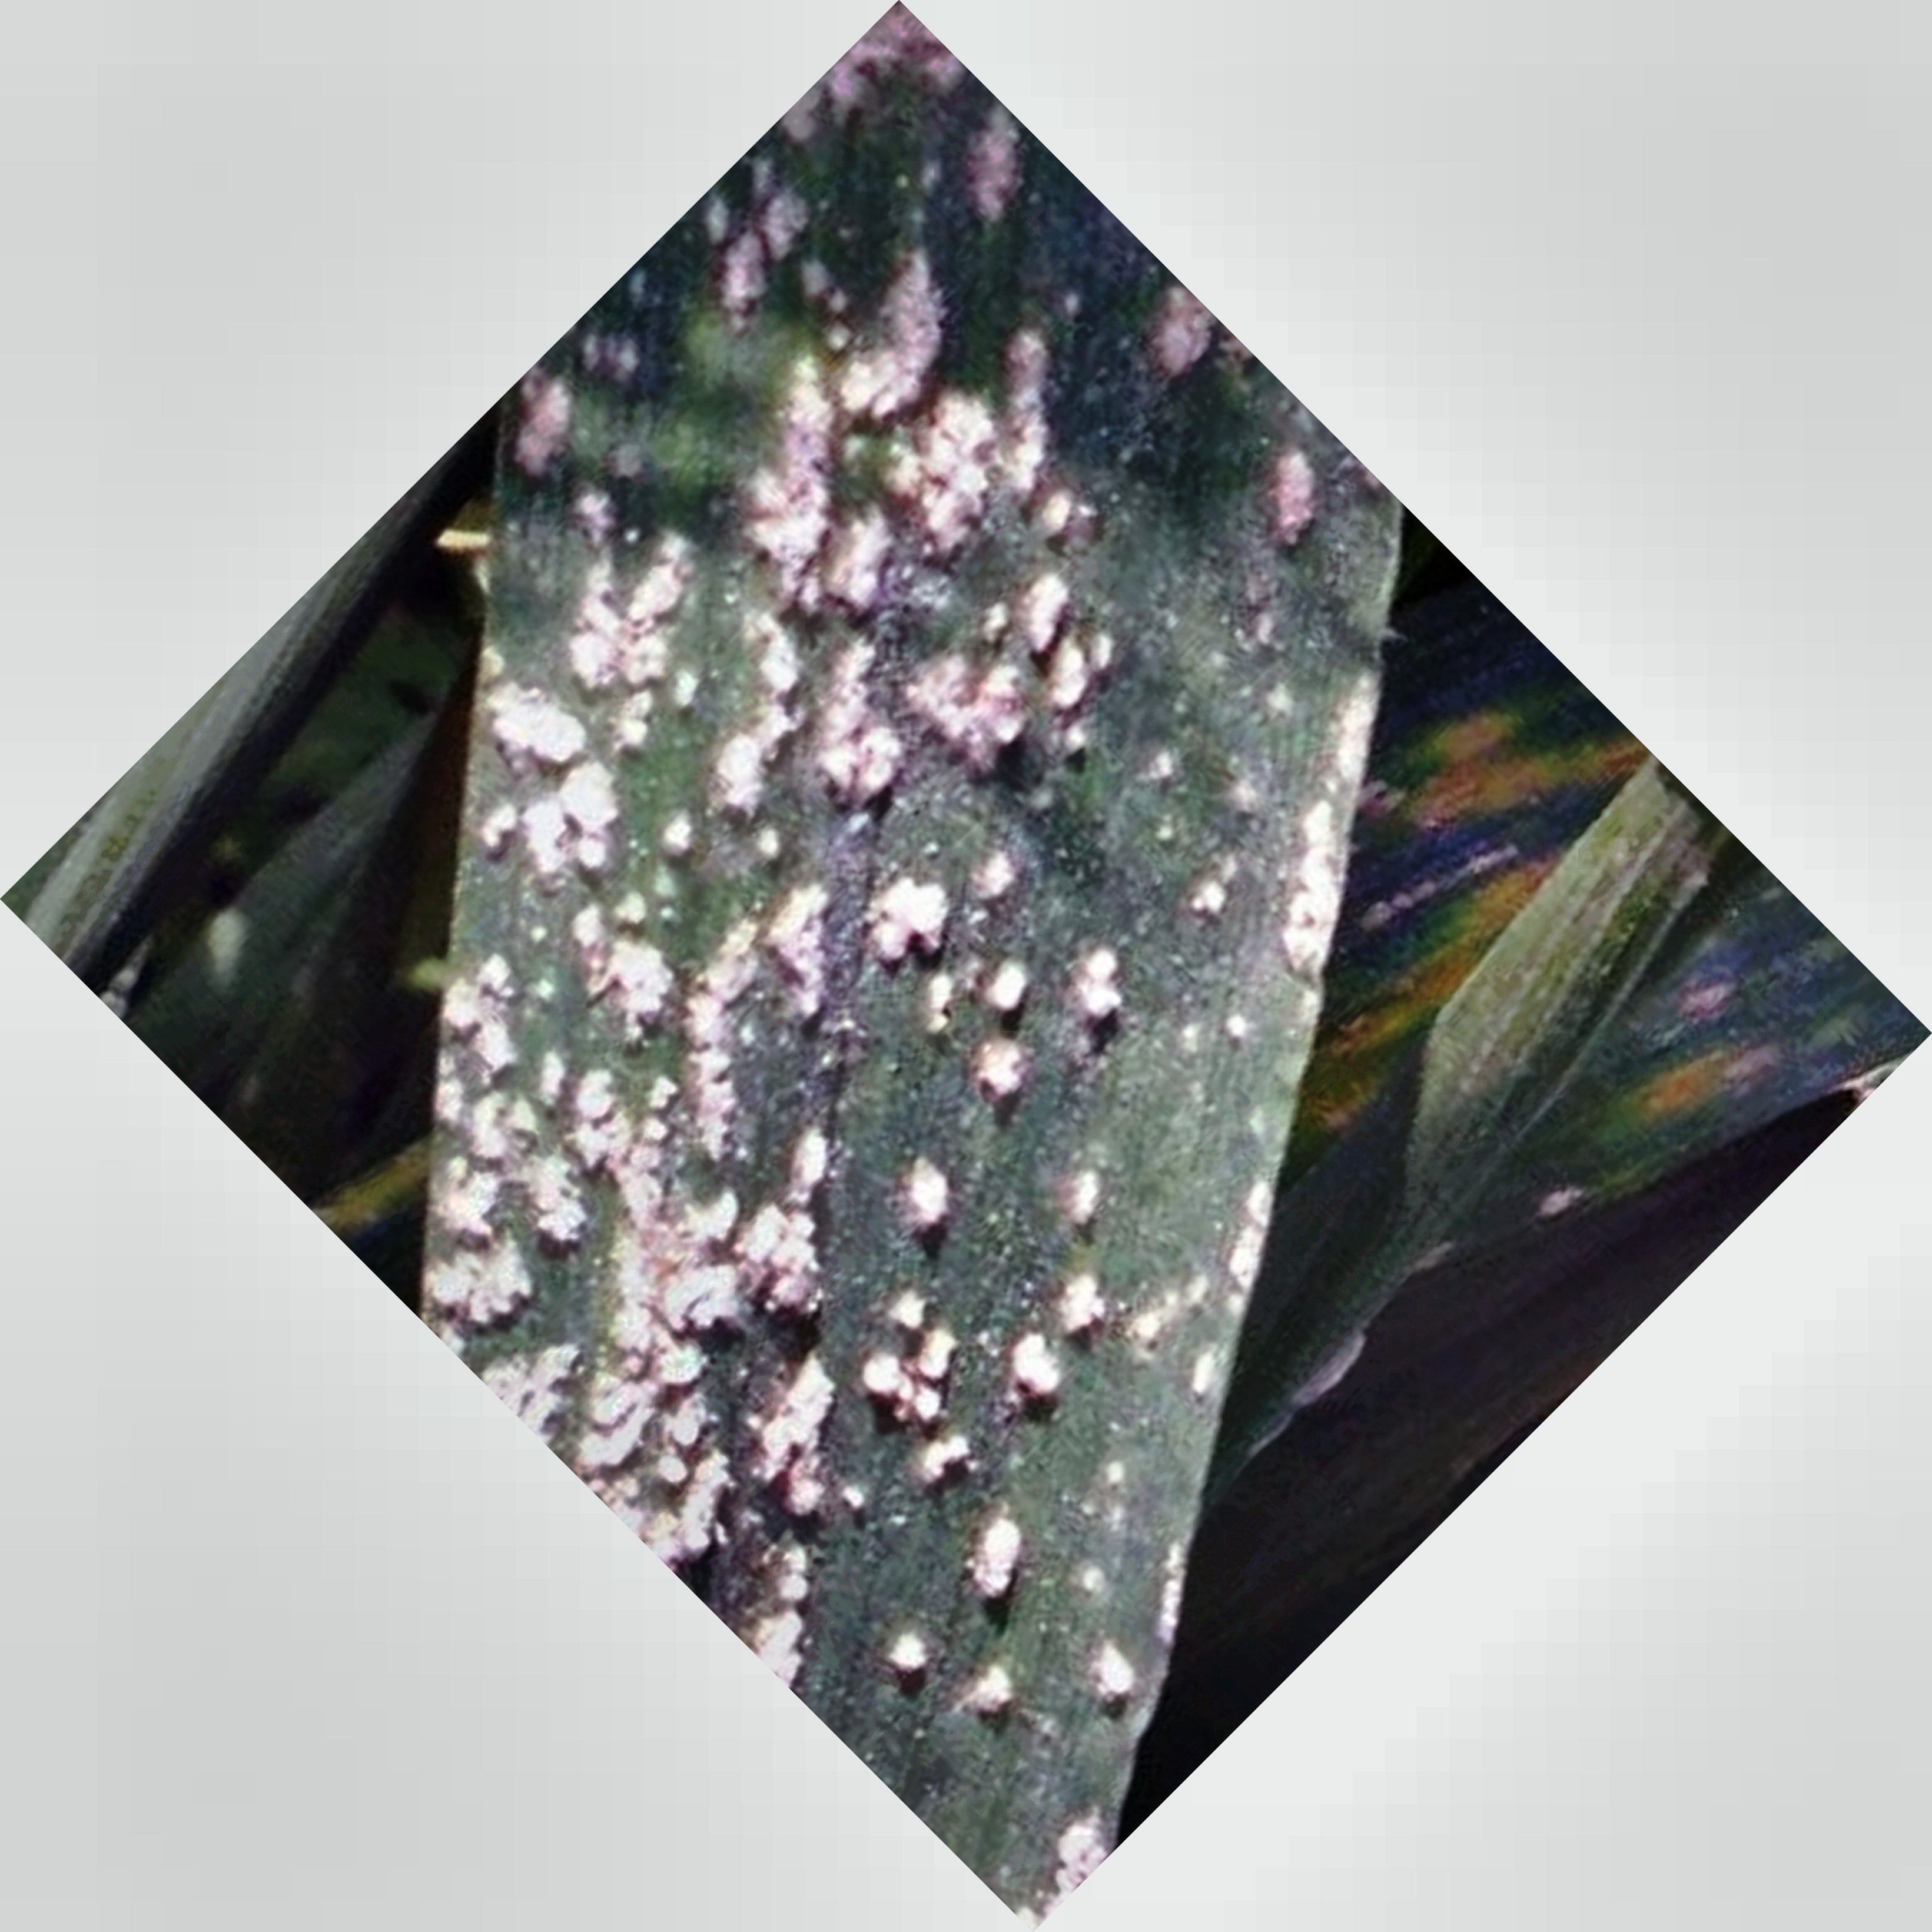Powdery Mildew: (462, 234, 1361, 1426)
